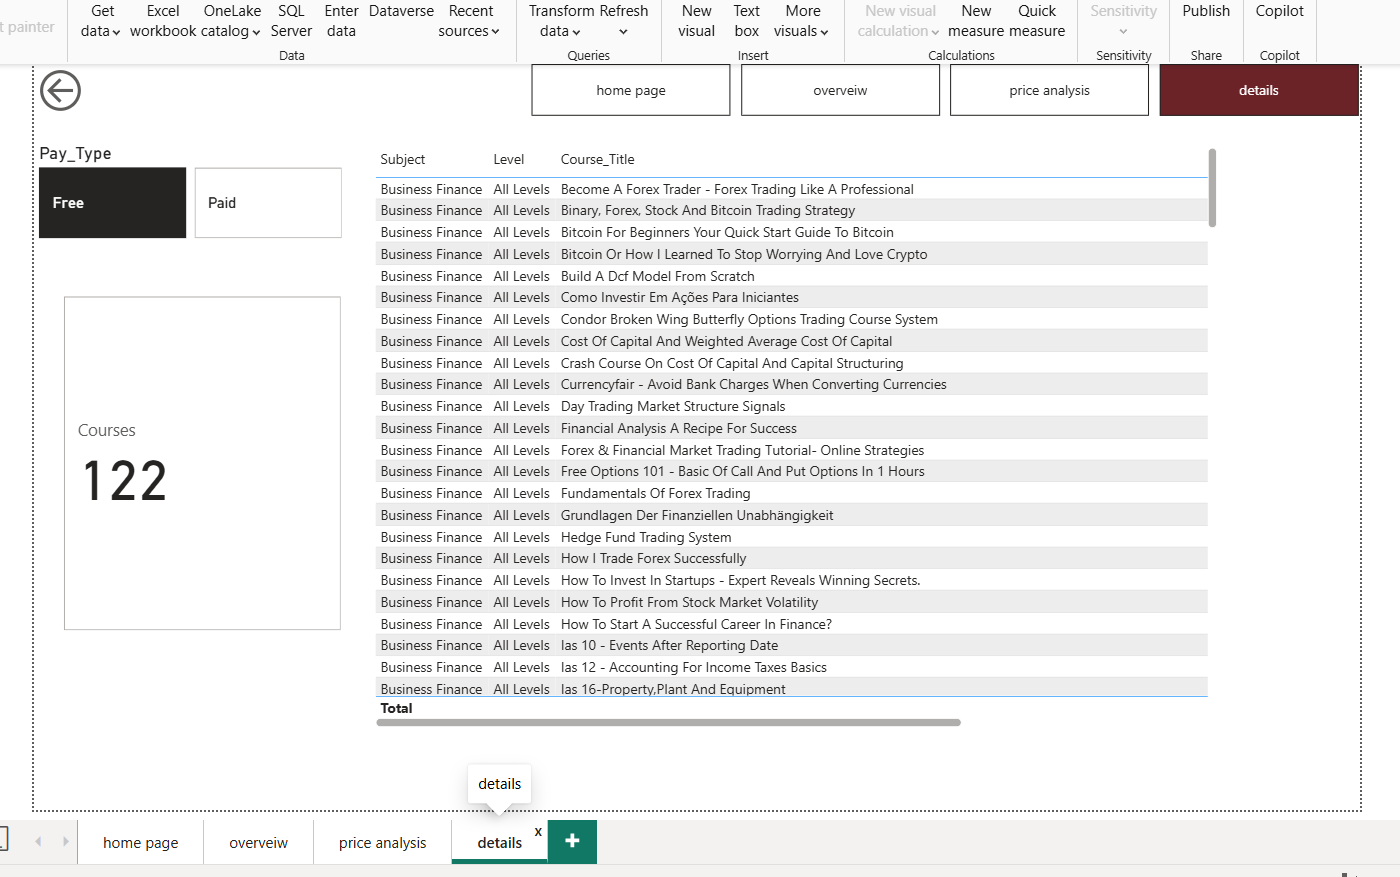

This screenshot's page, from the dashboard's own definition file:
{"tool":"powerbi","page":{"name":"details","canvas":[1280,720],"ordinal":3},"visuals":[{"type":"tableEx","fields":{"Values":["udemy.Subject","udemy.Level","udemy.Course_Title","udemy.Pay_Type","udemy.Price","udemy.Lectures"]},"box":[323.3,75.6,823.3,568.9],"z":0},{"type":"actionButton","box":[0,0,126.7,51.1],"z":1000},{"type":"cardVisual","fields":{"Data":["udemy.Courses"]},"box":[24,219,277.8,332.2],"z":2000},{"type":"advancedSlicerVisual","fields":{"Values":["udemy.Pay_Type"]},"box":[0,76,302.2,97.8],"z":3000},{"type":"pageNavigator","box":[480,0,800,50],"z":3001}]}

Visuals, with their boxes on the page's 1280x720 design canvas (x1, y1, x2, y2). These are canvas units, not pixel positions in the 1400x877 screenshot, which may show the page scaled, cropped or inside an application window:
tableEx - udemy.Subject x udemy.Level: box=[323, 76, 1147, 644]
actionButton: box=[0, 0, 127, 51]
cardVisual - udemy.Courses: box=[24, 219, 302, 551]
advancedSlicerVisual - udemy.Pay_Type: box=[0, 76, 302, 174]
pageNavigator: box=[480, 0, 1280, 50]
